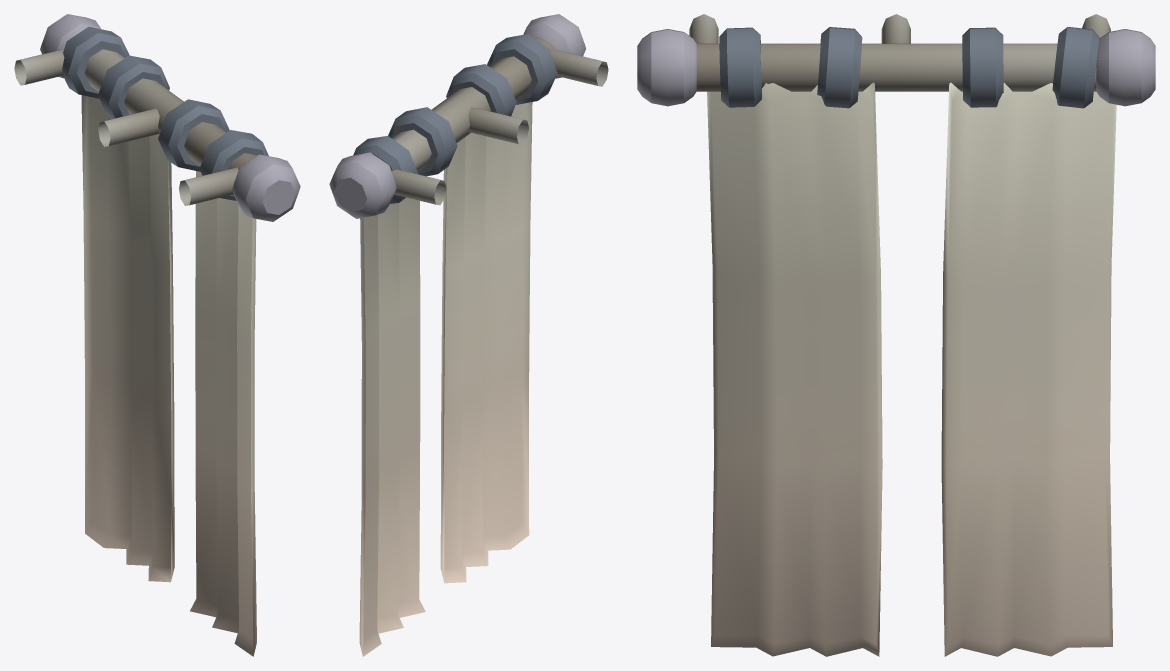
The model's file is Curtains_Short_2_B_M.glb.
The picture shows the model from 3 angles, left to right: view 1: azimuth 30°, elevation 25°; view 2: azimuth 150°, elevation 25°; view 3: azimuth 270°, elevation 25°; orthographic projection. The views are drawn at different scales.
Visible parts, largest first — view 1: Curtains_Short_2_B_M; view 2: Curtains_Short_2_B_M; view 3: Curtains_Short_2_B_M.
Boxes of the visible parts, x1,y1,x2,y2 form: Curtains_Short_2_B_M: [14, 14, 300, 656]; Curtains_Short_2_B_M: [329, 14, 608, 656]; Curtains_Short_2_B_M: [637, 14, 1155, 656].
Bounding box in the file's own units: 0.2275 × 1.16 × 0.8807.
Materials: 2 (2 with a texture image).
